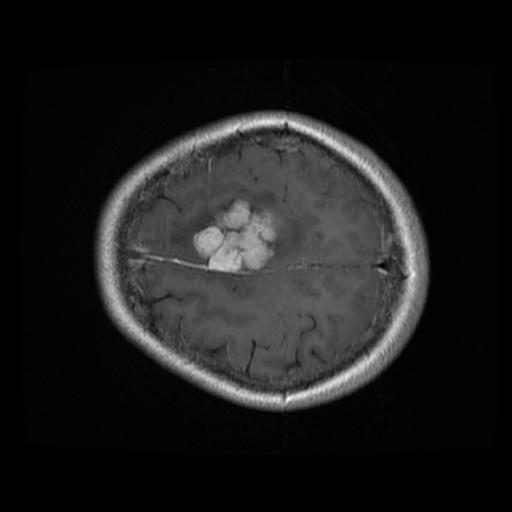meningioma: (191, 199, 278, 274)
